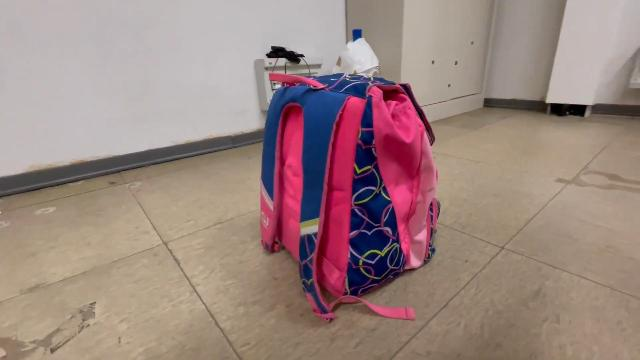Backpack: (250, 63, 448, 331)
